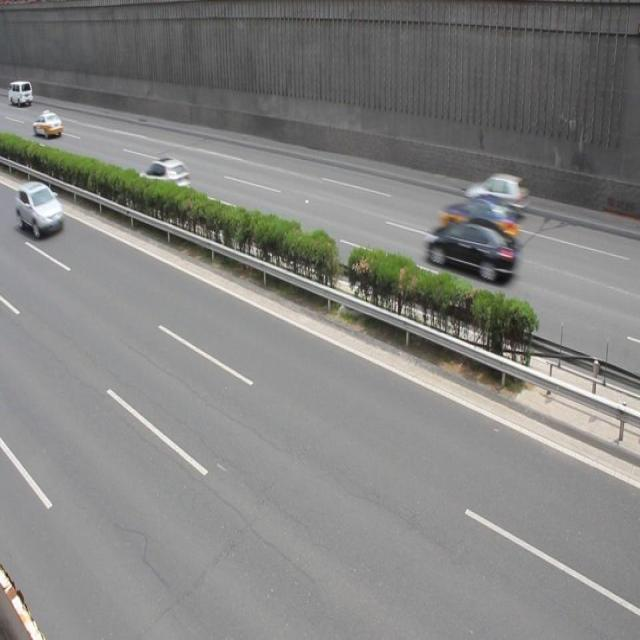car: (423, 217, 515, 284), (440, 196, 518, 244), (461, 171, 525, 218), (16, 180, 63, 238), (135, 155, 193, 201), (32, 110, 62, 140)
